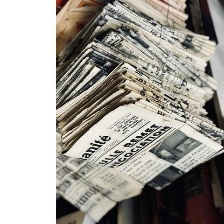news_paper: (61, 98, 224, 191), (39, 135, 147, 222)
